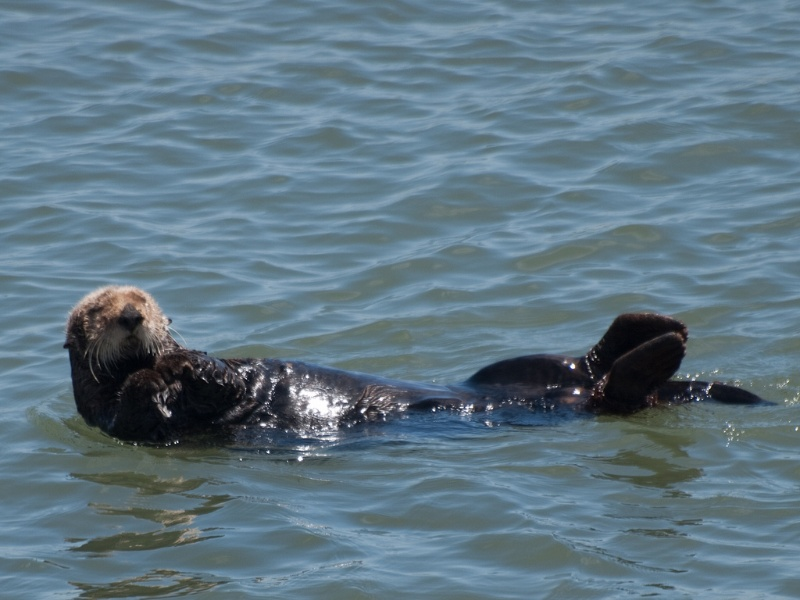minkish: (60, 281, 747, 461)
